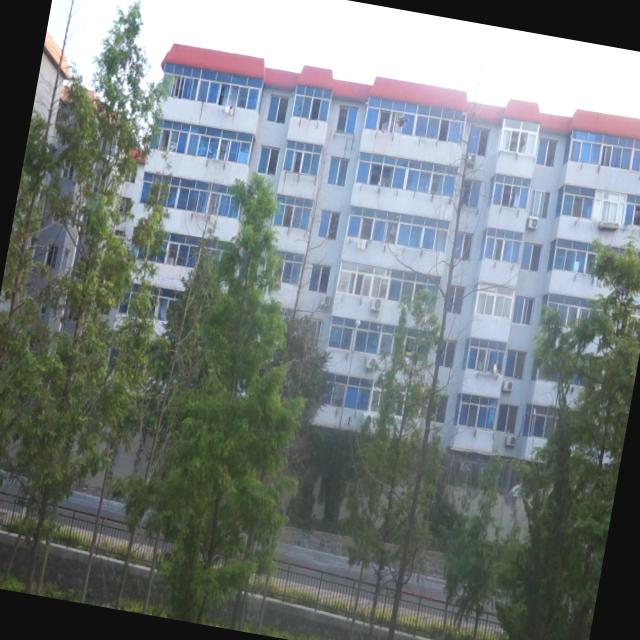drone: (392, 111, 411, 132)
